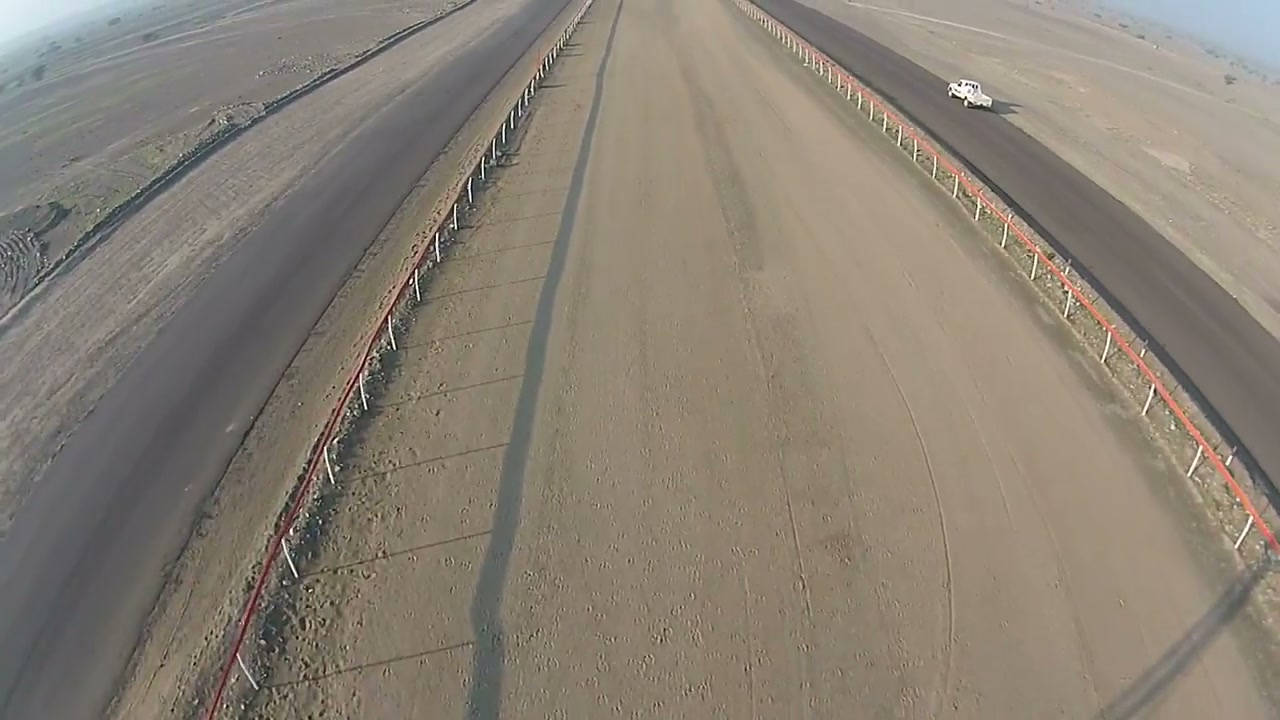animal_foot_print: (522, 192, 755, 708)
